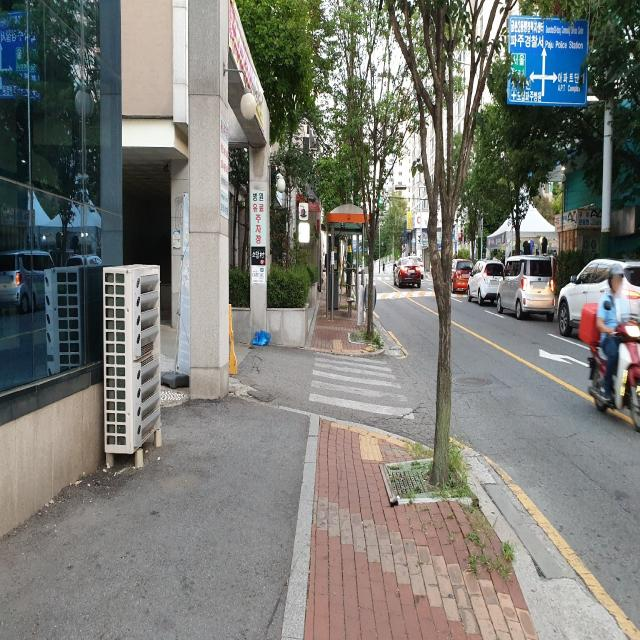횡단보도: (308, 350, 416, 420)
